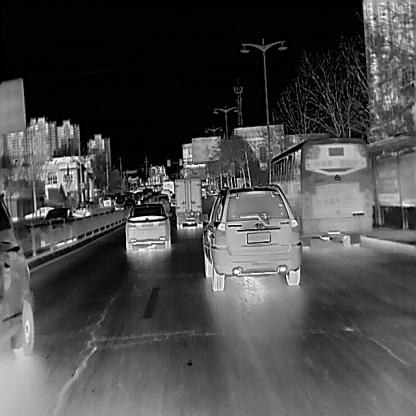bus: (265, 136, 373, 250), (160, 178, 175, 200)
car: (197, 182, 302, 290), (123, 201, 171, 250), (41, 206, 77, 247), (143, 192, 170, 218), (74, 198, 92, 214), (113, 192, 127, 210), (121, 198, 136, 212), (168, 192, 177, 206), (200, 186, 206, 198)
truck: (173, 176, 203, 228)
